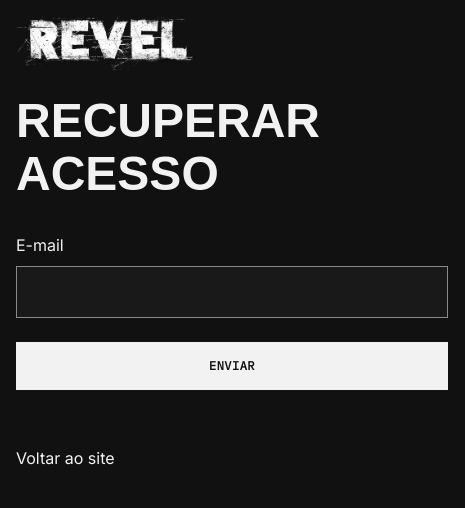
Test: requests a non-enumerating reset link and reports failures
In the field labelled "E-mail": (232, 292) [16,266,448,318], type "admin@example.test"
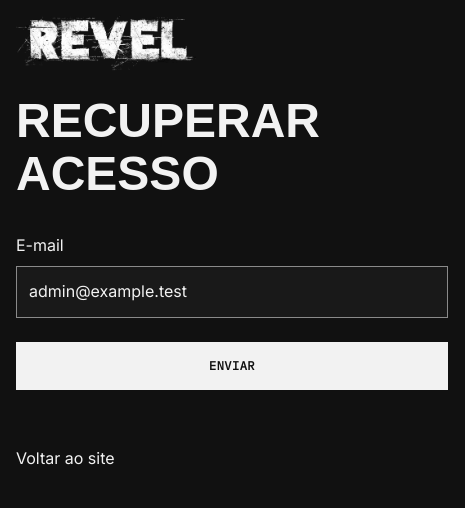
Submit the form labelled "E-mail", box [16,233,448,414]
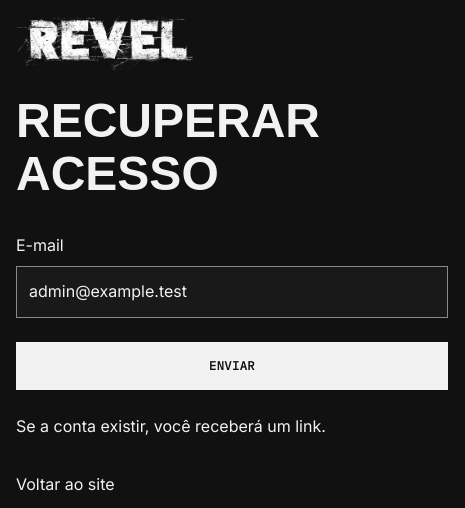
Check: the message shows "Se a conta existir", box [16,416,326,436]
Submit the form labelled "E-mail", box [16,233,448,440]
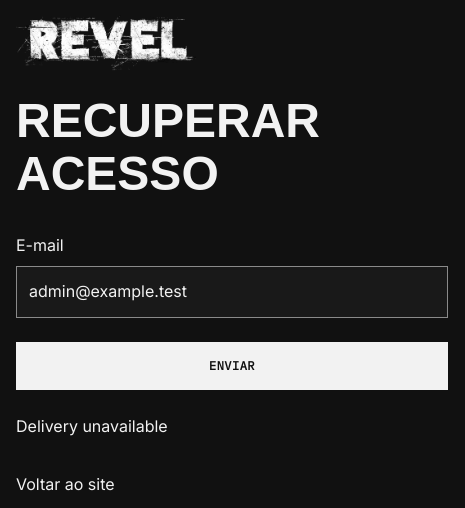
Check: the message reads "Delivery unavailable", box [16,416,168,436]
Submit the form labelled "E-mail", box [16,233,448,440]
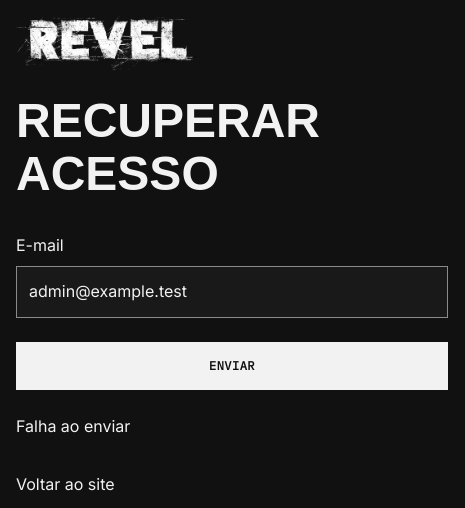
Check: the message reads "Falha ao enviar", box [16,416,130,436]
